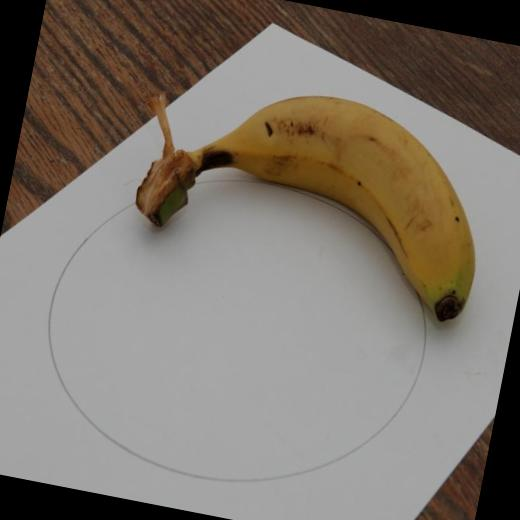Banana: (106, 56, 507, 330)
